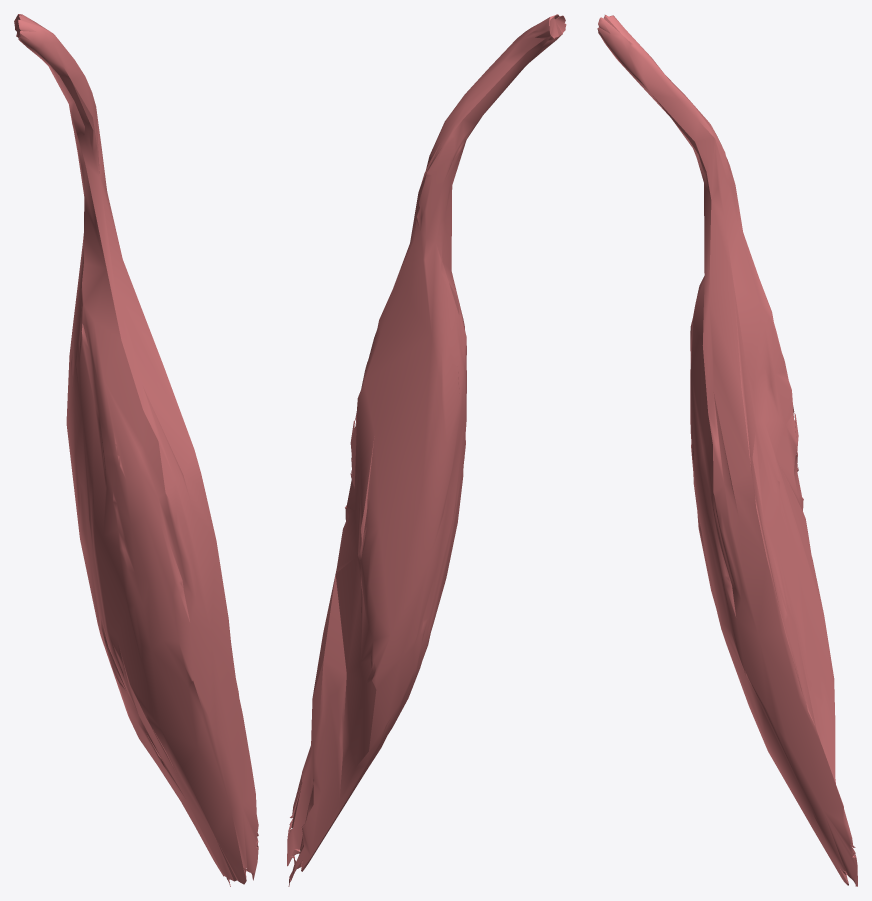
3 renders of one model, left to right at view 1: azimuth 30°, elevation 25°; view 2: azimuth 150°, elevation 25°; view 3: azimuth 330°, elevation 25°, orthographic. The views are drawn at different scales.
Parts seen in each view (by area): view 1: FJ1512M; view 2: FJ1512M; view 3: FJ1512M.
Part boxes in pixels (x1=…): FJ1512M: x1=14, y1=14, x2=258, y2=886; FJ1512M: x1=287, y1=14, x2=566, y2=886; FJ1512M: x1=597, y1=15, x2=857, y2=886.
Bounding box in the file's own units: 0.0767 × 0.2611 × 0.033.
